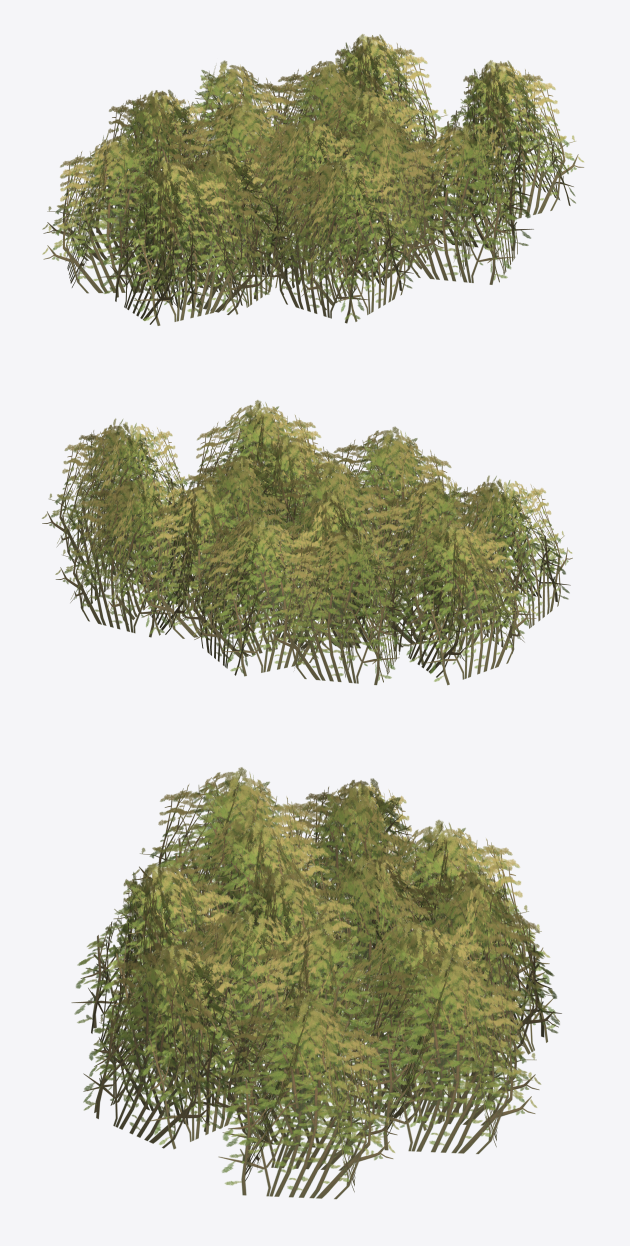
File: grass_light_green.glb
3 renders of one model, top to bottom at view 1: azimuth 30°, elevation 25°; view 2: azimuth 150°, elevation 25°; view 3: azimuth 270°, elevation 25°, orthographic. The views are drawn at different scales.
Visible parts, largest first — view 1: grass_green_lod_1; view 2: grass_green_lod_1; view 3: grass_green_lod_1.
Part boxes in pixels (box(x1,y1,x2,y2)): grass_green_lod_1: box(42, 34, 583, 325); grass_green_lod_1: box(42, 400, 572, 685); grass_green_lod_1: box(71, 767, 561, 1199).
Bounding box in the file's own units: 3.98 × 1.09 × 3.01.
Materials: 1 (1 with a texture image).
